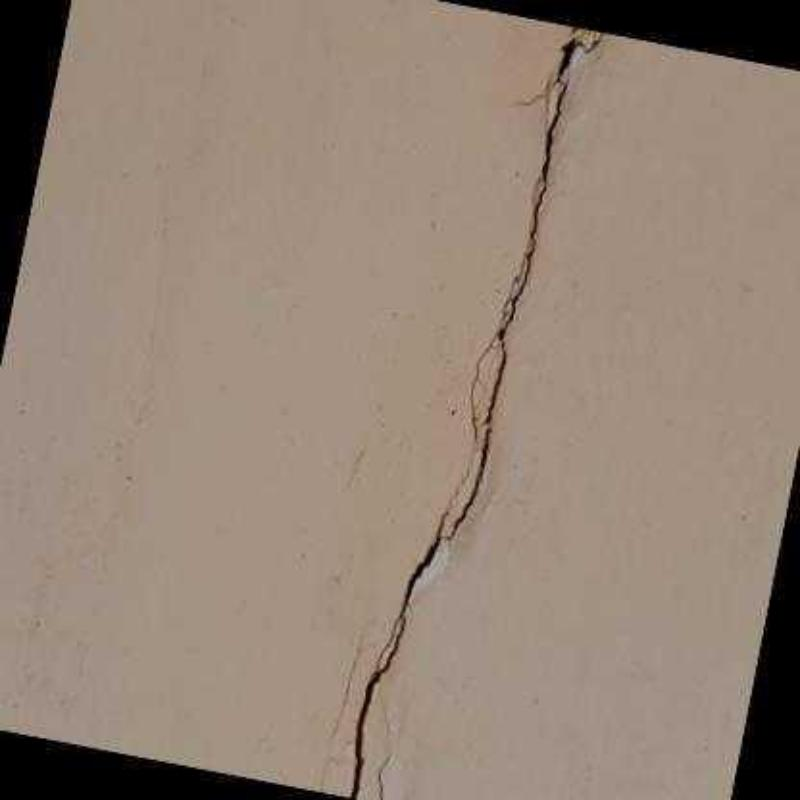pothole: (342, 29, 608, 799)
